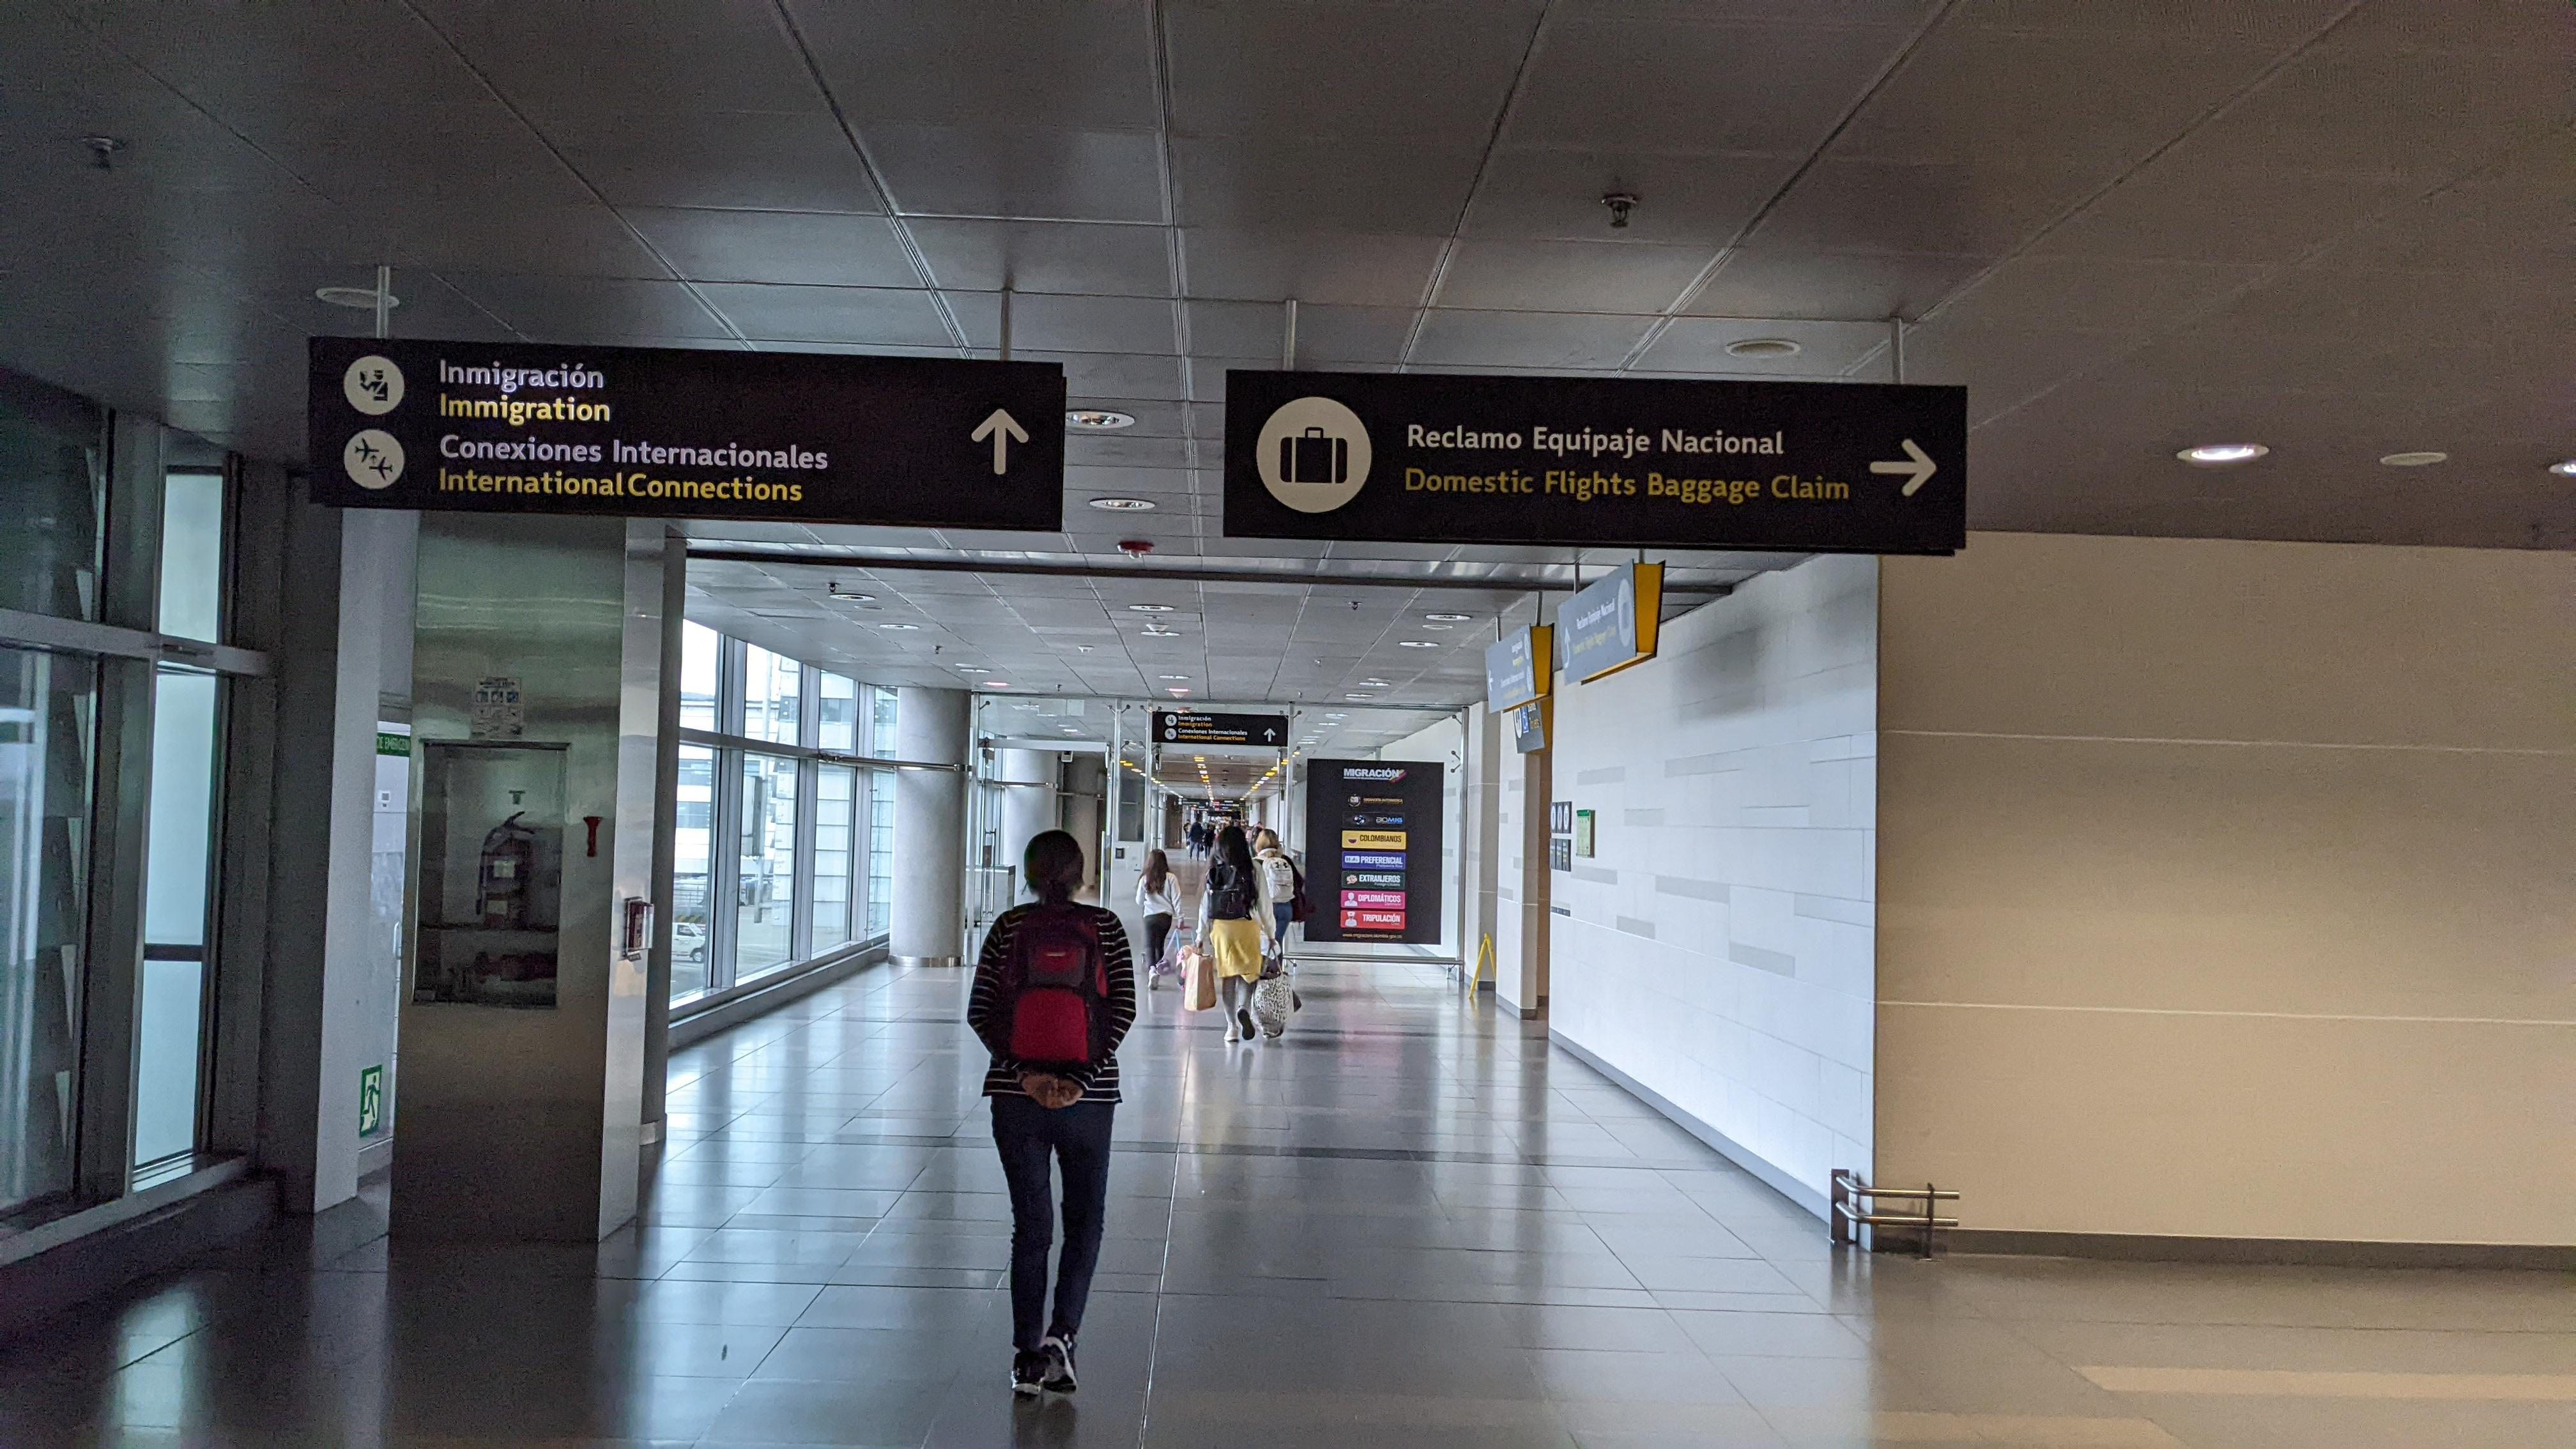airplane symbol: (354, 437, 380, 464), (368, 455, 395, 481)
baggage claim: (1277, 425, 1352, 488)
emergency exit: (361, 1063, 382, 1132)
fire-extinguisher: (476, 810, 538, 929)
thin right arrow: (1865, 435, 1939, 501)
up arrow: (970, 403, 1033, 481), (1263, 727, 1277, 743)
